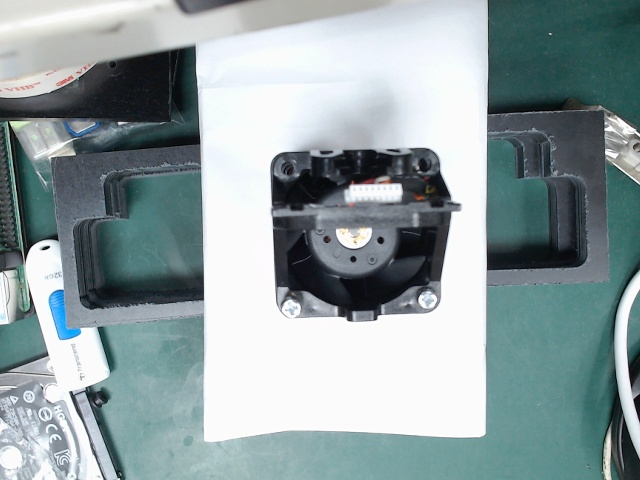Phase1_panel_missing: (239, 190, 472, 231)
Phase1_screw_loose: (268, 275, 341, 344)
Phase1_screw_missing: (259, 144, 307, 189)
